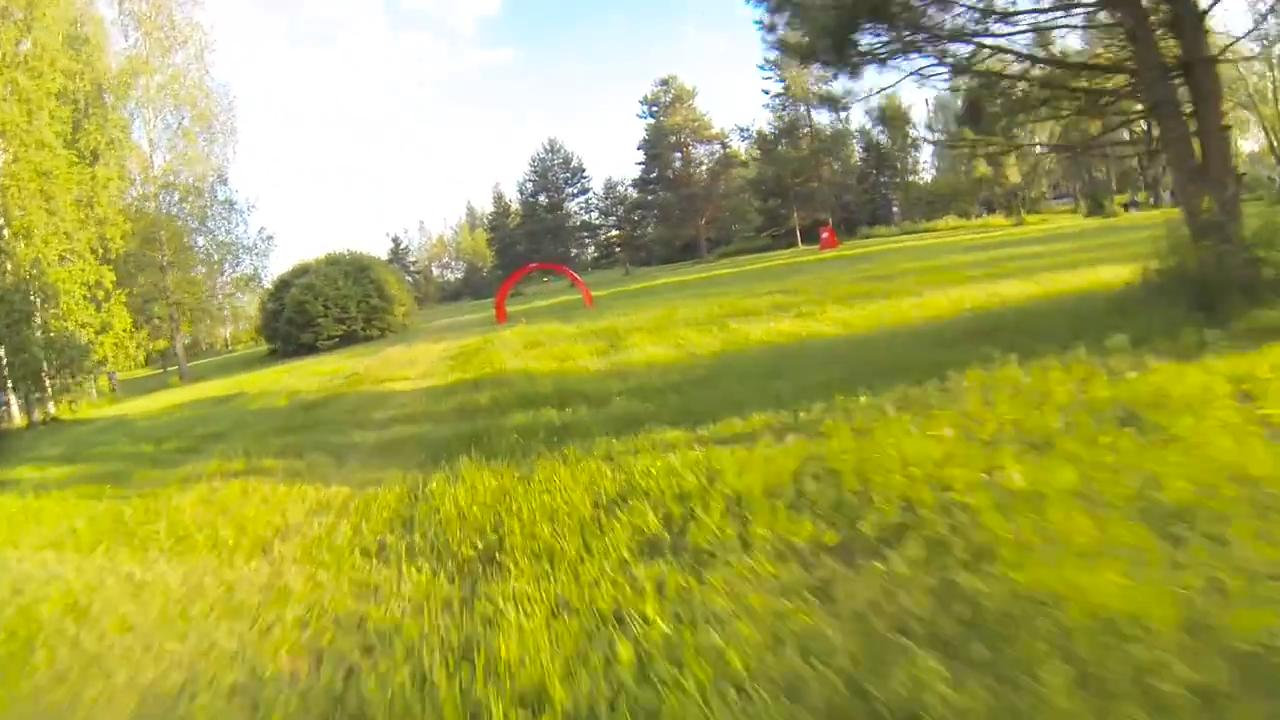gate: (491, 260, 600, 329)
